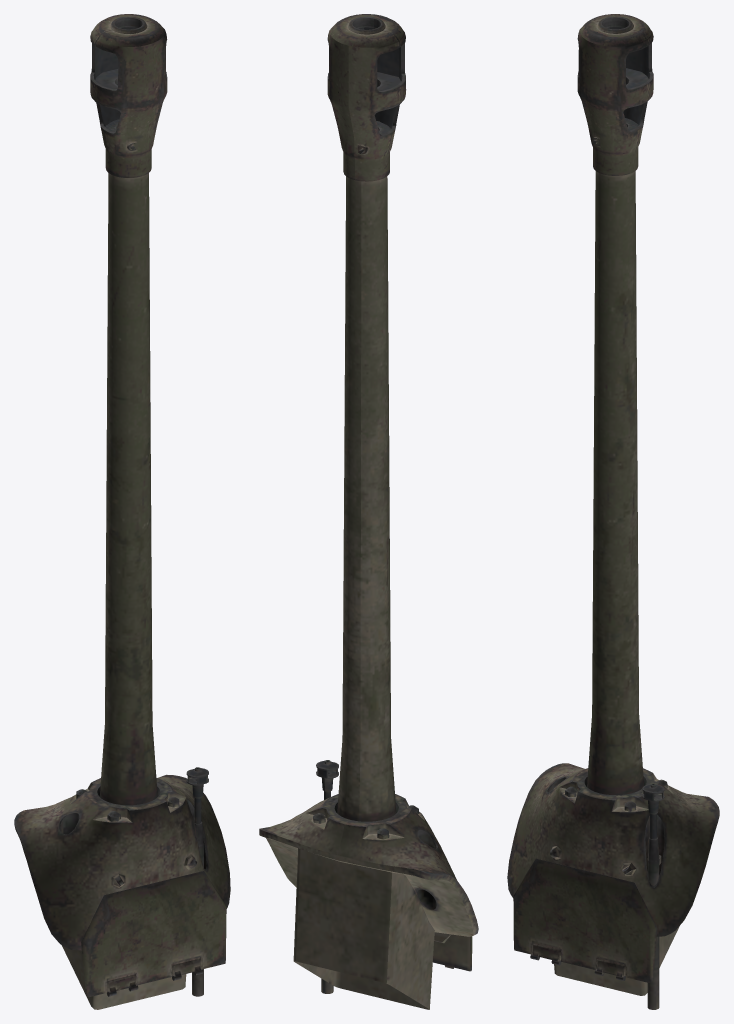
The model's file is Gun_03.glb.
3 views of the same model, side by side, from view 1: azimuth 30°, elevation 25°; view 2: azimuth 150°, elevation 25°; view 3: azimuth 330°, elevation 25° (orthographic). The views are drawn at different scales.
Visible parts, largest first — view 1: set_0_group_0; view 2: set_0_group_0; view 3: set_0_group_0.
Part boxes in pixels (x1=…): set_0_group_0: x1=14, y1=14, x2=230, y2=1009; set_0_group_0: x1=259, y1=14, x2=478, y2=1009; set_0_group_0: x1=507, y1=14, x2=719, y2=1009.
Size of the model in its own units: 0.9755 by 4.77 by 0.5596.
1 material, 1 textured.
